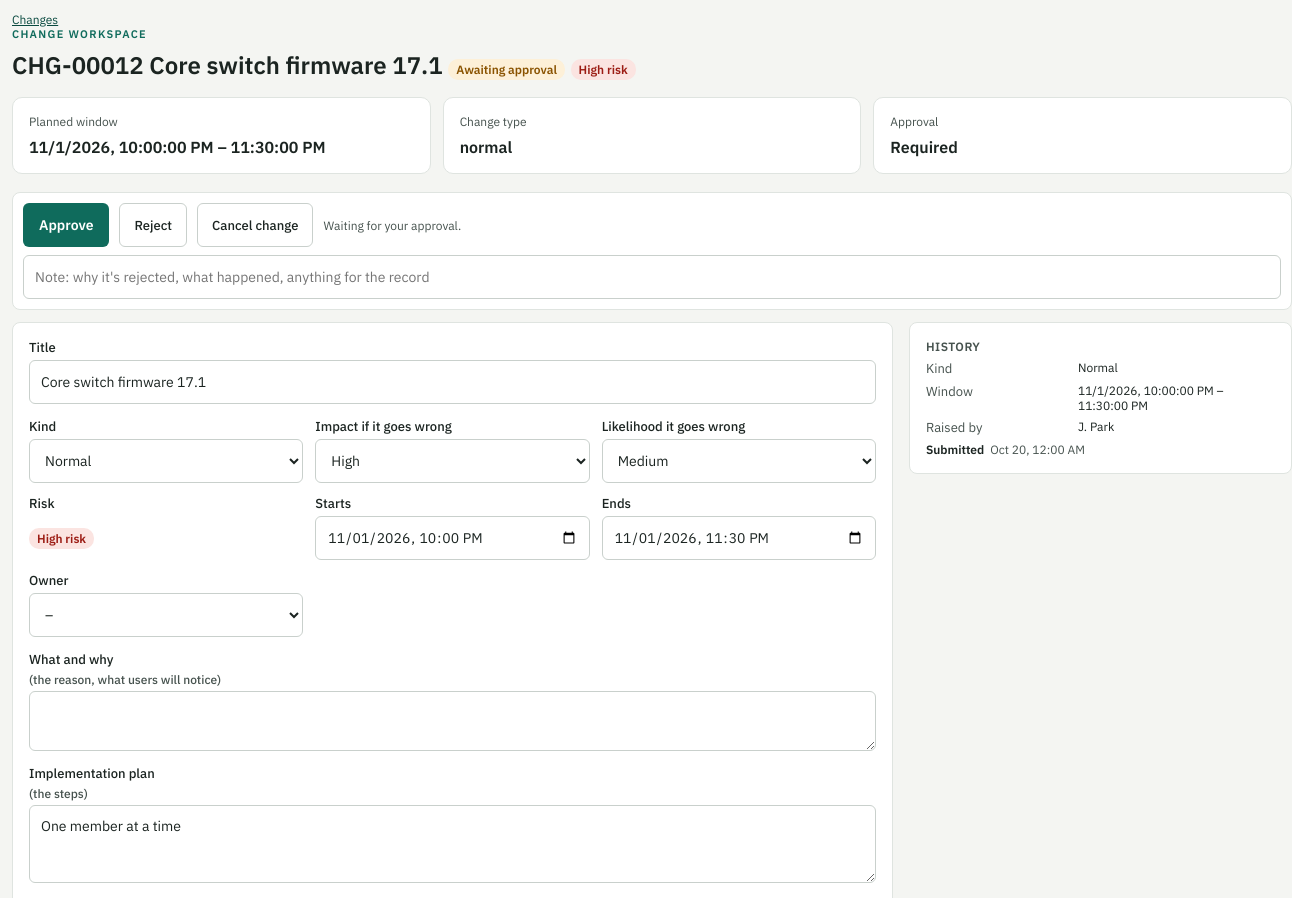
Test: an approver approves, with a note for the record
This screenshot has width=1292, height=898.
Check: the text "Waiting for your approval." is shown, box [323, 218, 461, 232]
Type "OK in the window" into the field labelled "Note" at (652, 277), box [23, 255, 1281, 299]
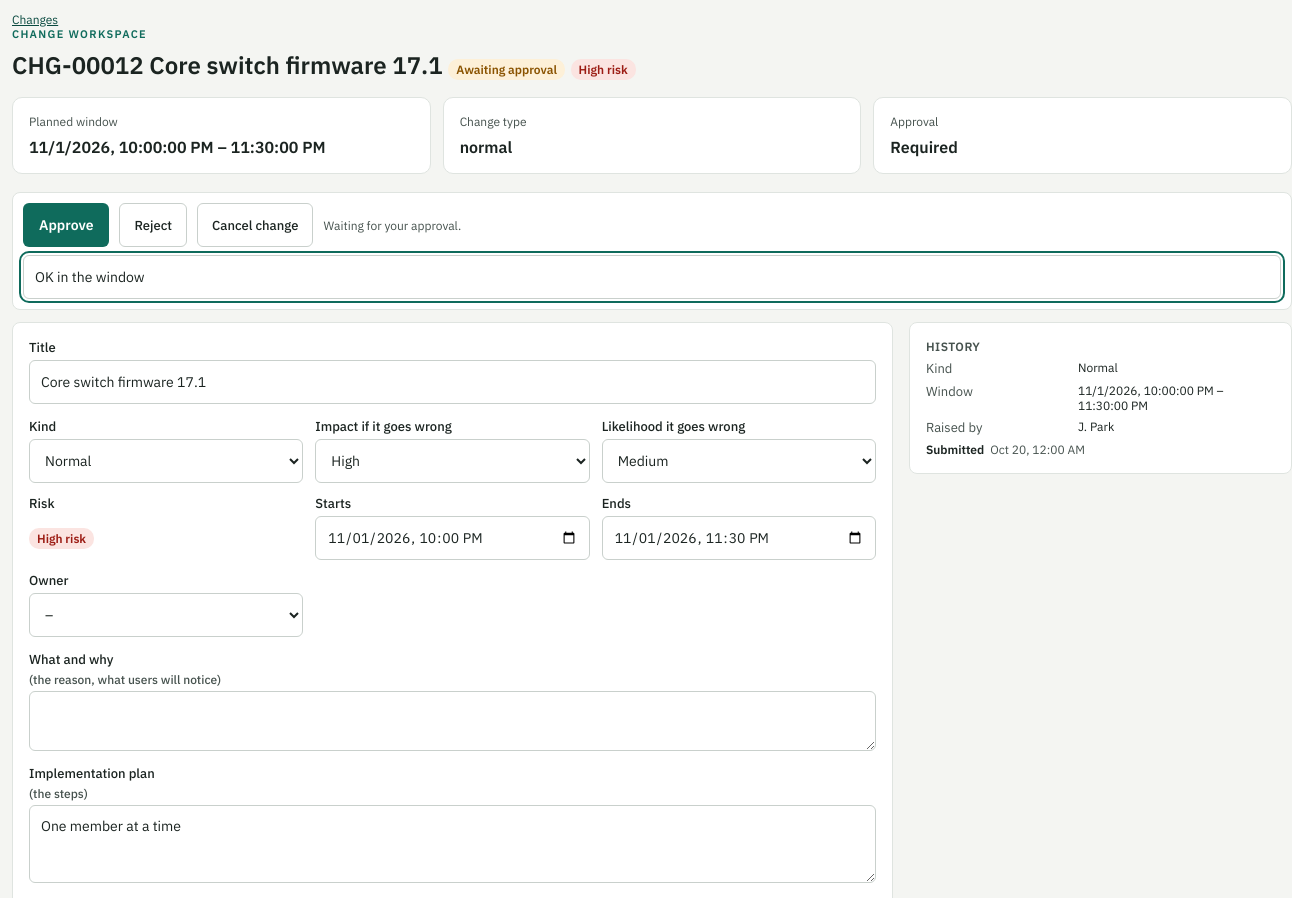
Click the button "Approve" at (66, 225), box [23, 203, 110, 247]
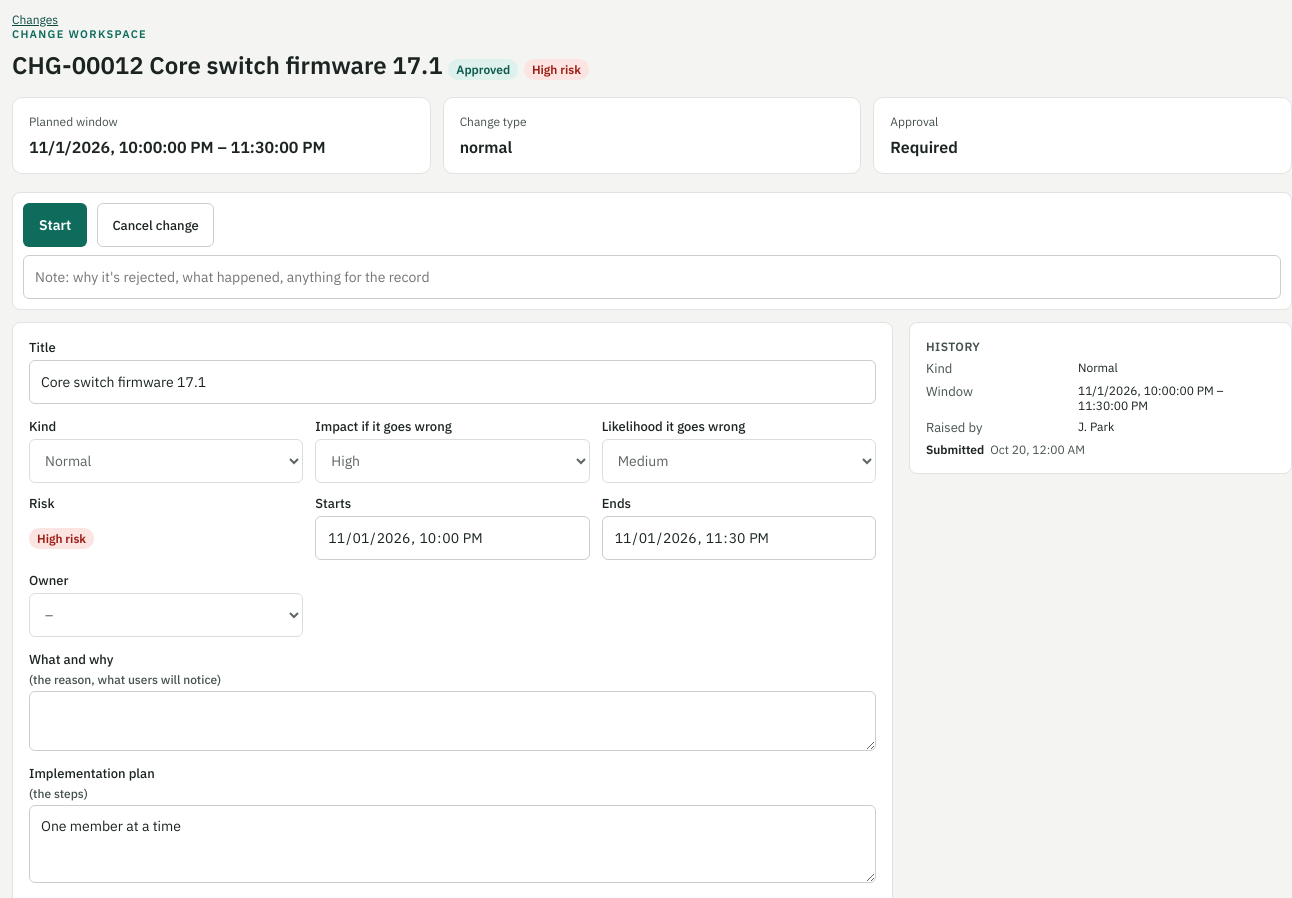
Check: the button "Start" is shown, box [23, 203, 87, 247]
